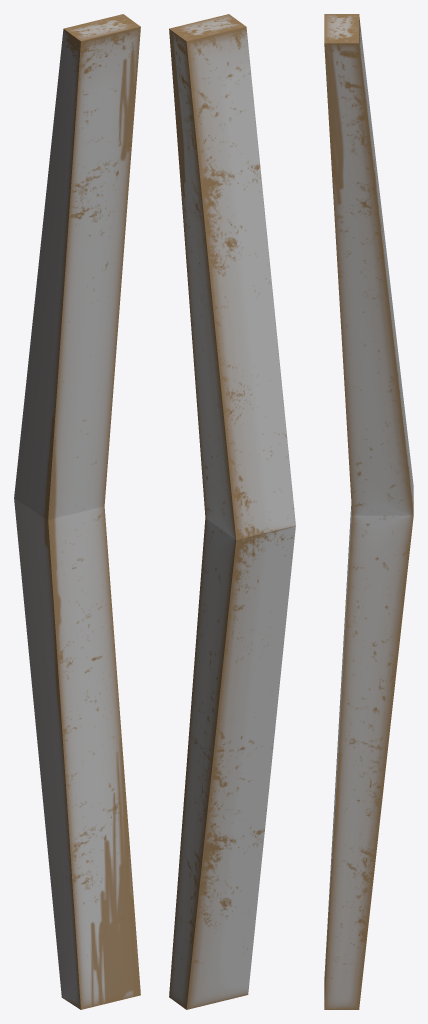
File: SM_white_frame_only2.fbx
3 renders of one model, left to right at view 1: azimuth 30°, elevation 25°; view 2: azimuth 210°, elevation 25°; view 3: azimuth 270°, elevation 25°, orthographic.
Parts seen in each view (by area): view 1: floor_big.032; view 2: floor_big.032; view 3: floor_big.032.
Boxes of the visible parts, left/top/right/bottom form: floor_big.032: left=14, top=14, right=140, bottom=1009; floor_big.032: left=169, top=14, right=295, bottom=1009; floor_big.032: left=324, top=14, right=413, bottom=1009.
Bounding box in the file's own units: 17.73 × 200 × 16.77.
Materials: 1 (1 with a texture image).
